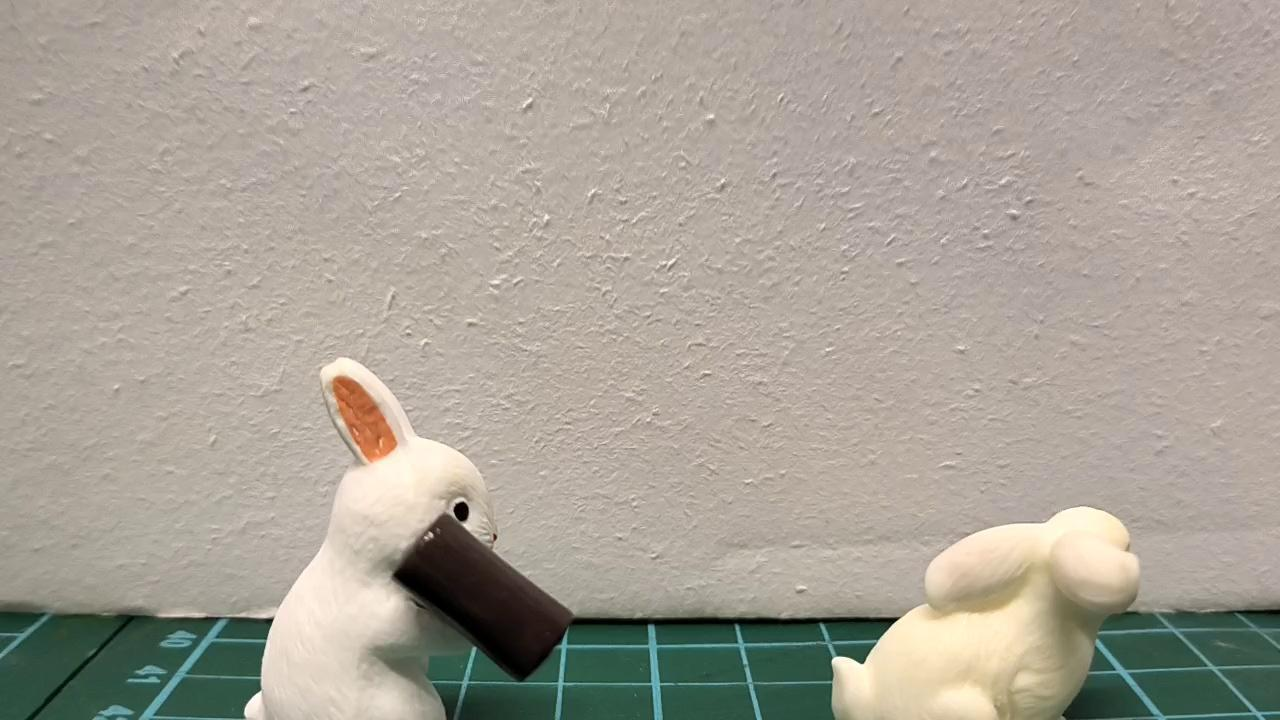pet: (245, 356, 576, 720), (824, 502, 1143, 720)
